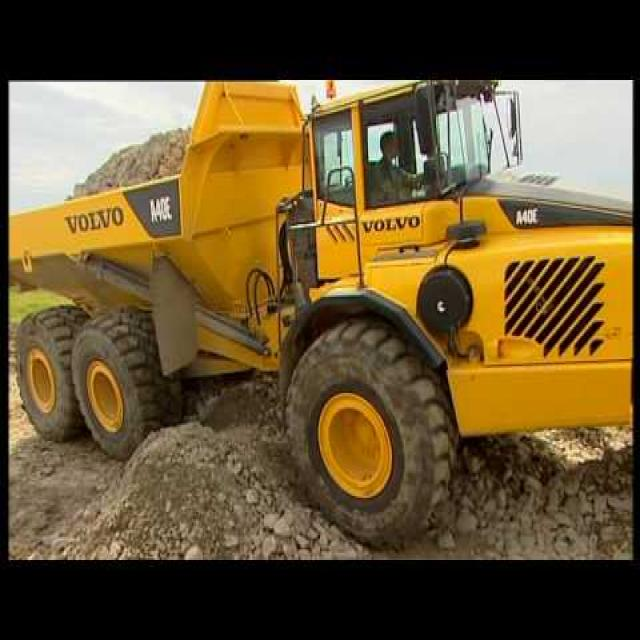dump_truck: (13, 85, 639, 544)
